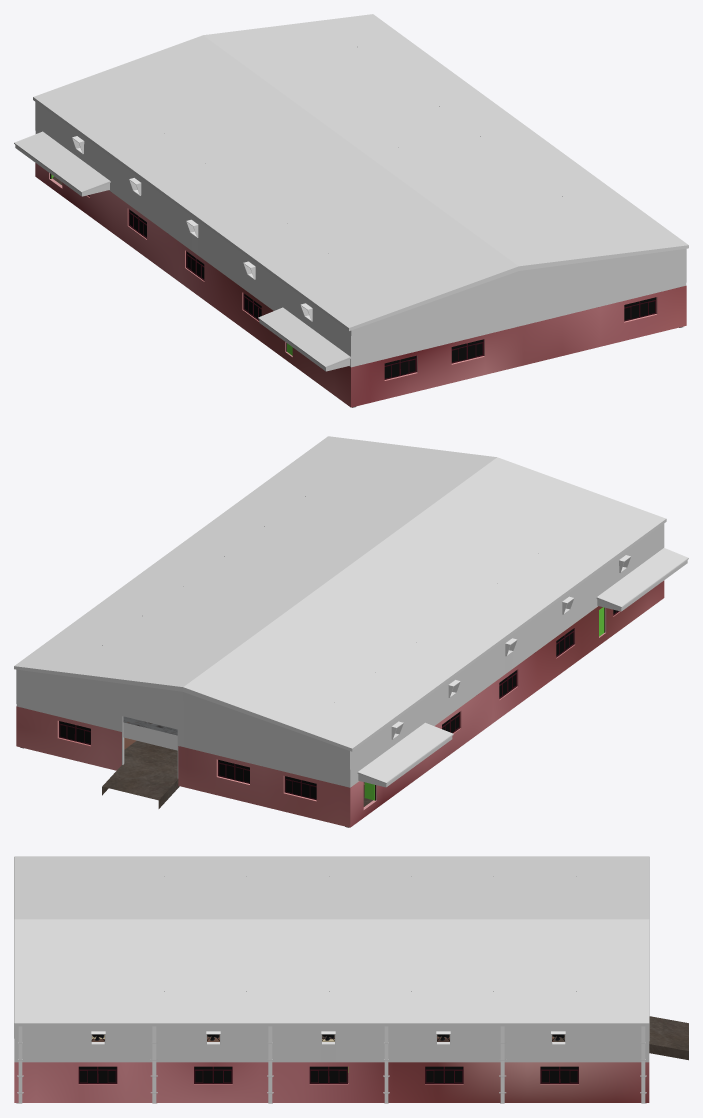
The model's file is mechanics1.fbx.
3 views of the same model, one above another, from view 1: azimuth 30°, elevation 25°; view 2: azimuth 150°, elevation 25°; view 3: azimuth 270°, elevation 25° (orthographic).
Parts seen in each view (by area): view 1: celing_out, wall.001, chajja, window4_LOD0, window2_LOD0, exhaust_fan_enclosure; view 2: celing_out, wall.001, chajja, floor, shutter, window1_LOD0, window2_LOD0, exhaust_fan_enclosure; view 3: celing_out, wall.001, window3_LOD0, pipes, floor, exhaust_fan_enclosure.
Part boxes in pixels (x1=…): celing_out: x1=33, y1=14, x2=688, y2=367; wall.001: x1=35, y1=163, x2=686, y2=407; chajja: x1=14, y1=131, x2=350, y2=371; window4_LOD0: x1=384, y1=339, x2=483, y2=379; window2_LOD0: x1=87, y1=195, x2=261, y2=320; exhaust_fan_enclosure: x1=72, y1=136, x2=312, y2=321; celing_out: x1=14, y1=436, x2=666, y2=787; wall.001: x1=16, y1=580, x2=664, y2=827; chajja: x1=357, y1=548, x2=688, y2=787; floor: x1=102, y1=741, x2=372, y2=808; shutter: x1=123, y1=716, x2=177, y2=750; window1_LOD0: x1=218, y1=760, x2=316, y2=800; window2_LOD0: x1=442, y1=609, x2=619, y2=733; exhaust_fan_enclosure: x1=391, y1=555, x2=630, y2=739; celing_out: x1=14, y1=856, x2=649, y2=1062; wall.001: x1=14, y1=1062, x2=649, y2=1102; window3_LOD0: x1=78, y1=1066, x2=578, y2=1083; pipes: x1=18, y1=1026, x2=645, y2=1103; floor: x1=207, y1=1016, x2=688, y2=1082; exhaust_fan_enclosure: x1=91, y1=1031, x2=565, y2=1044.
Size of what is drawn, in the model's own units: 2889 by 820 by 4541.
